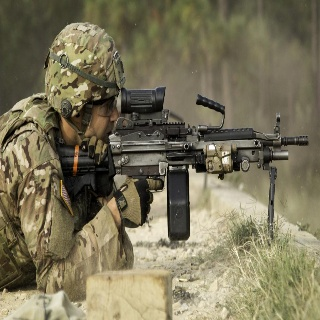rifle: (55, 85, 309, 243)
